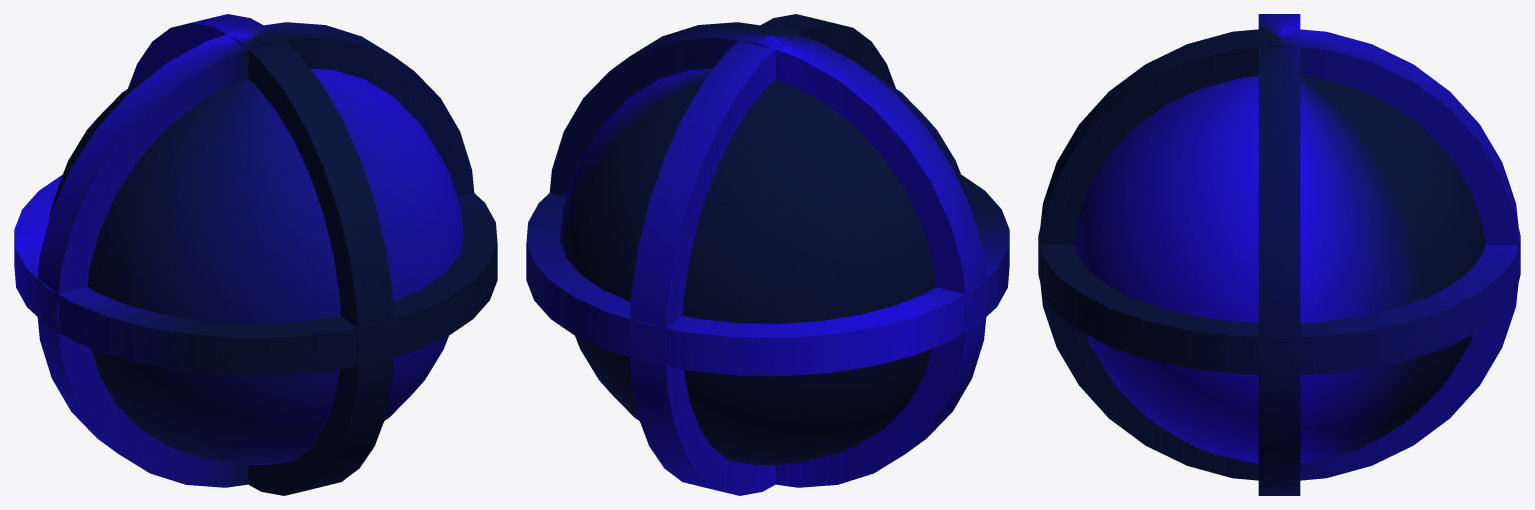
File: Ball-19.dae
3 views of the same model, side by side, from view 1: azimuth 30°, elevation 25°; view 2: azimuth 150°, elevation 25°; view 3: azimuth 270°, elevation 25° (orthographic).
Visible parts, largest first — view 1: Ball; view 2: Ball; view 3: Ball.
Part boxes in pixels (left/top/right/bottom): Ball: left=14, top=14, right=497, bottom=495; Ball: left=526, top=14, right=1009, bottom=495; Ball: left=1038, top=14, right=1520, bottom=495.
Bounding box in the file's own units: 0.046 × 0.046 × 0.046.
2 materials, 2 textured.
